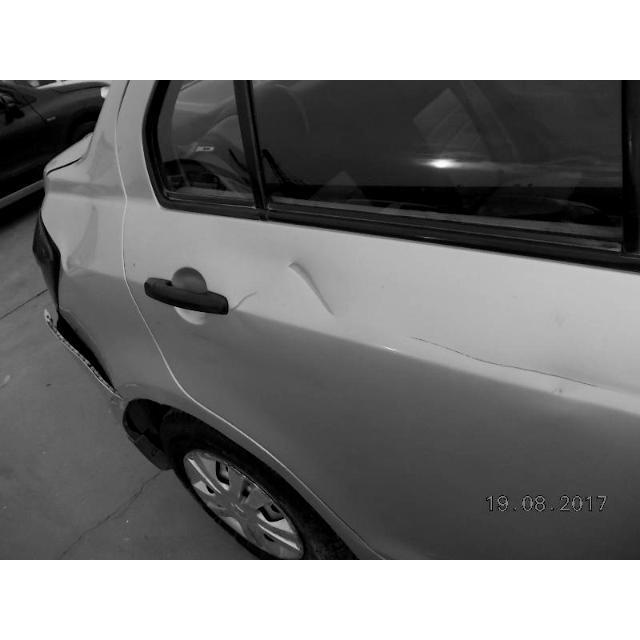doorouter-dent: (142, 194, 639, 555)
